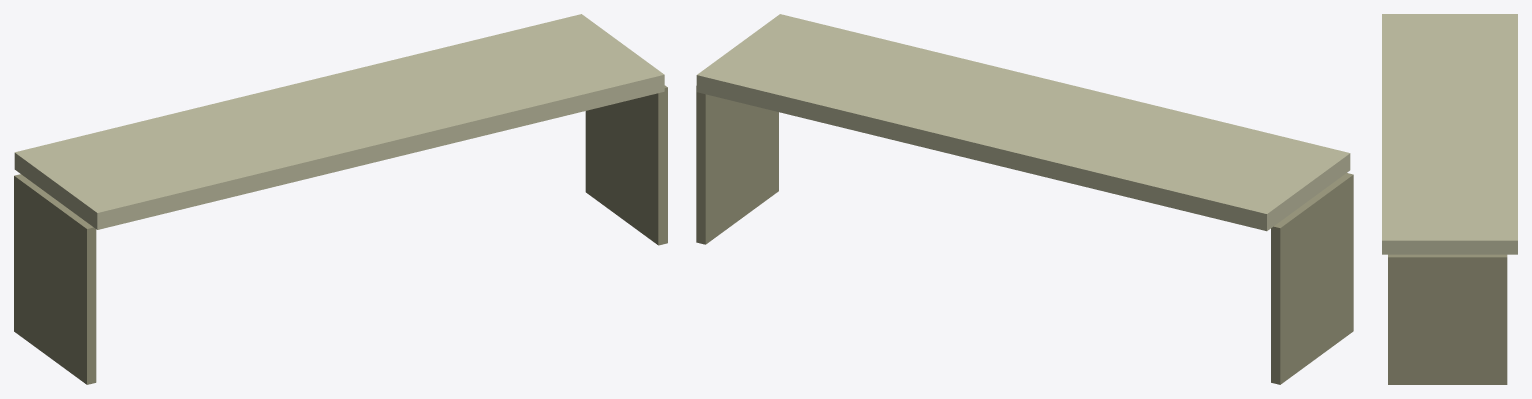
File: Banco 1.fbx
3 renders of one model, left to right at view 1: azimuth 30°, elevation 25°; view 2: azimuth 150°, elevation 25°; view 3: azimuth 270°, elevation 25°, orthographic. The views are drawn at different scales.
Parts seen in each view (by area): view 1: banco 1; view 2: banco 1; view 3: banco 1.
Part boxes in pixels (bbox=[...]): banco 1: bbox=[14, 14, 667, 384]; banco 1: bbox=[696, 14, 1353, 384]; banco 1: bbox=[1382, 14, 1517, 384].
Size of the model in its own units: 613 by 174 by 152.
